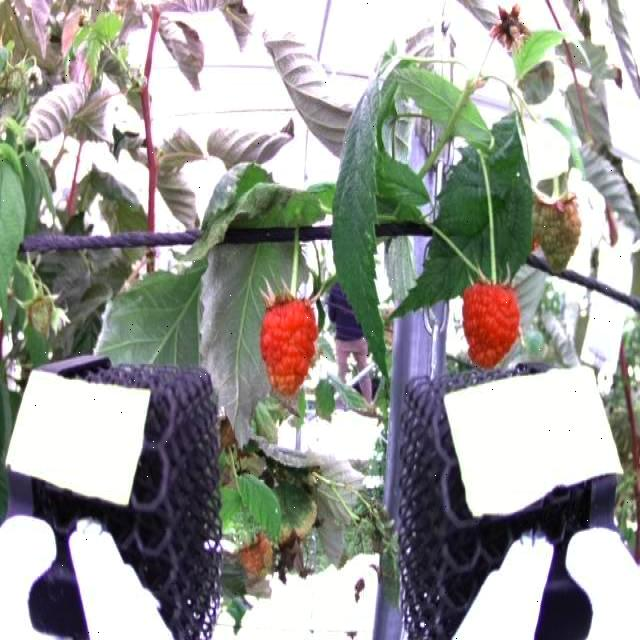Riped berries: (257, 283, 323, 399), (459, 270, 525, 368)
